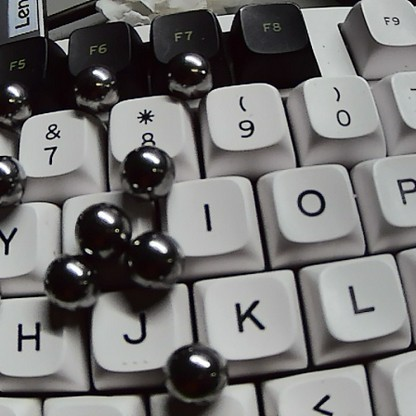ironball: (164, 333, 232, 406), (65, 200, 134, 266), (33, 251, 98, 309), (120, 230, 182, 289), (157, 46, 213, 109), (66, 64, 122, 115), (122, 141, 169, 197), (0, 71, 43, 128), (0, 151, 38, 206)
